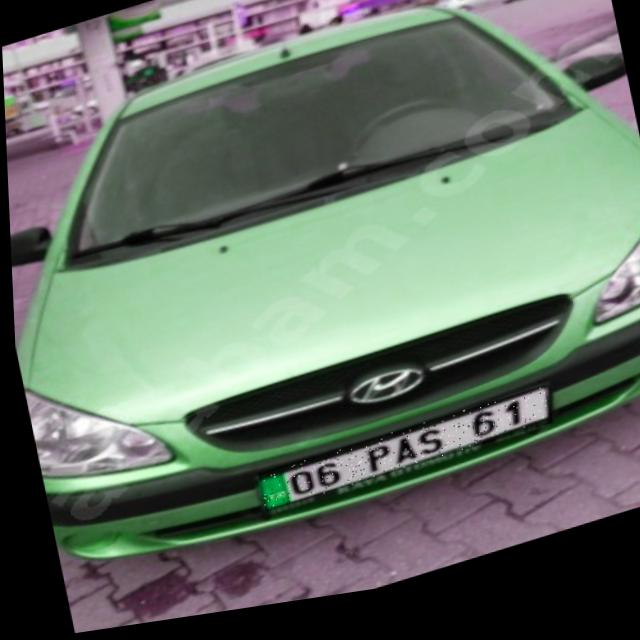license_plate: (252, 401, 550, 519)
